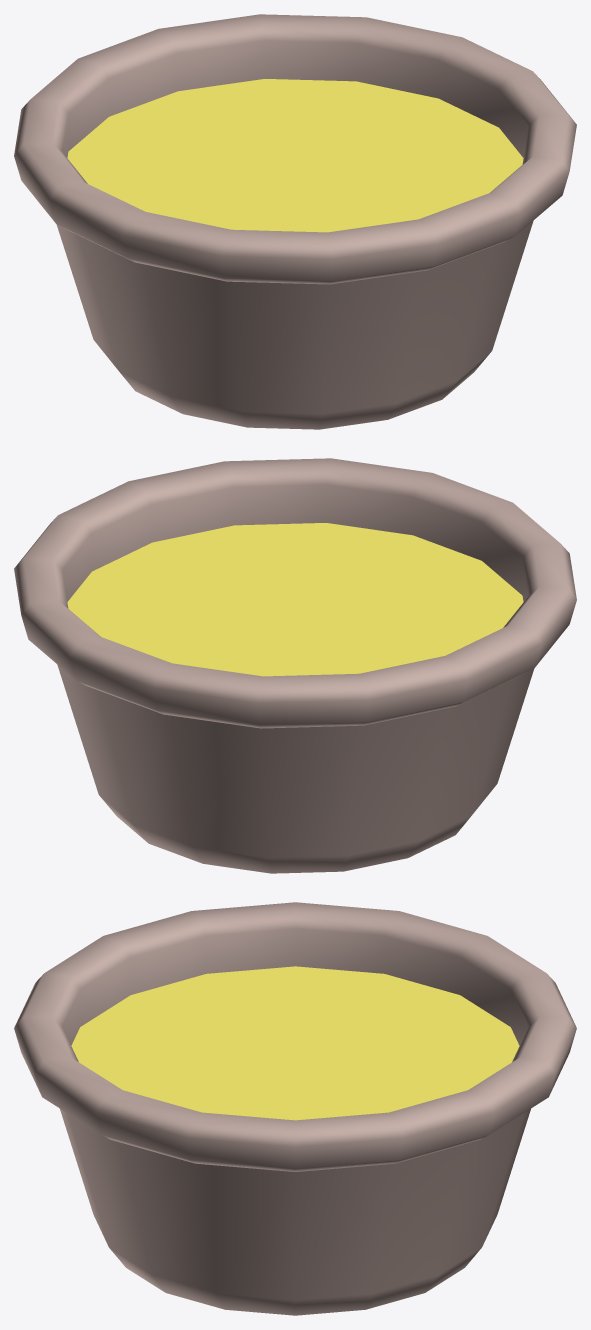
The model's file is Store_1_Ramekin_2.glb.
3 views of the same model, one above another, from view 1: azimuth 30°, elevation 25°; view 2: azimuth 150°, elevation 25°; view 3: azimuth 270°, elevation 25° (orthographic).
Parts seen in each view (by area): view 1: Store_1_Ramekin_2; view 2: Store_1_Ramekin_2; view 3: Store_1_Ramekin_2.
Boxes of the visible parts, x1,y1,x2,y2 form: Store_1_Ramekin_2: (14, 14, 576, 429); Store_1_Ramekin_2: (14, 458, 576, 873); Store_1_Ramekin_2: (14, 902, 576, 1315).
Size of the model in its own units: 0.1802 by 0.0812 by 0.1801.
Materials: 1 (1 with a texture image).
